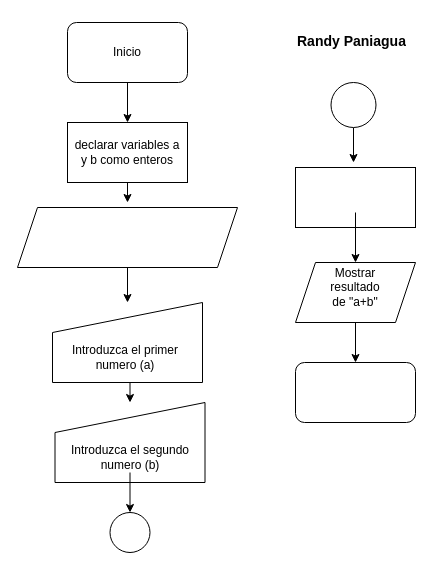
This 433x570 diagram has some shape labels left out. The box of each missing label's shape, as (x1, y1, x2, y2) in pixels:
Fin: (294, 362, 416, 422)
Mostrar en pantalla "Ingrese dos numeros": (16, 206, 238, 268)
Sumar a+b: (294, 166, 416, 228)
